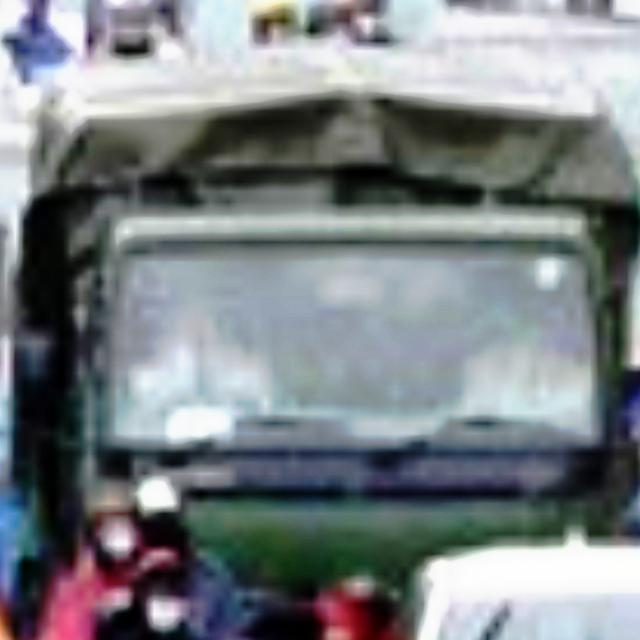Car: (51, 59, 640, 558), (421, 550, 640, 640)
